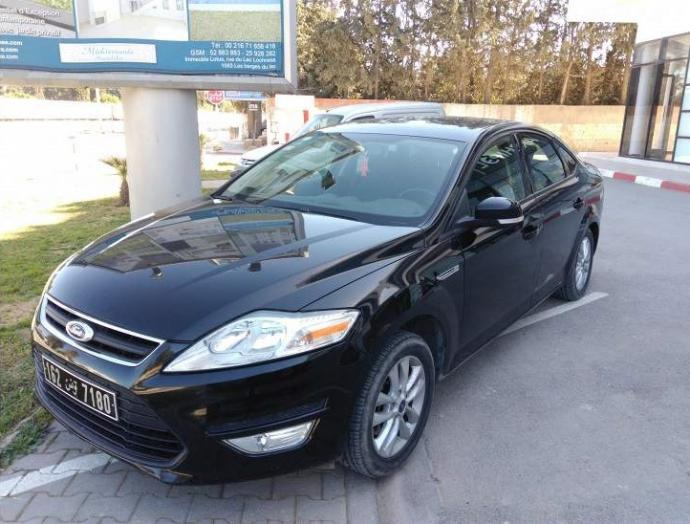LP: (38, 351, 121, 422)
